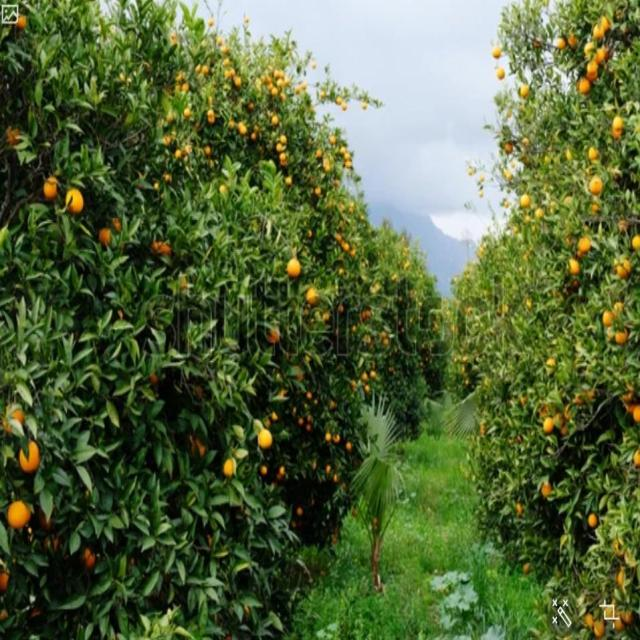row: (259, 385, 595, 638)
